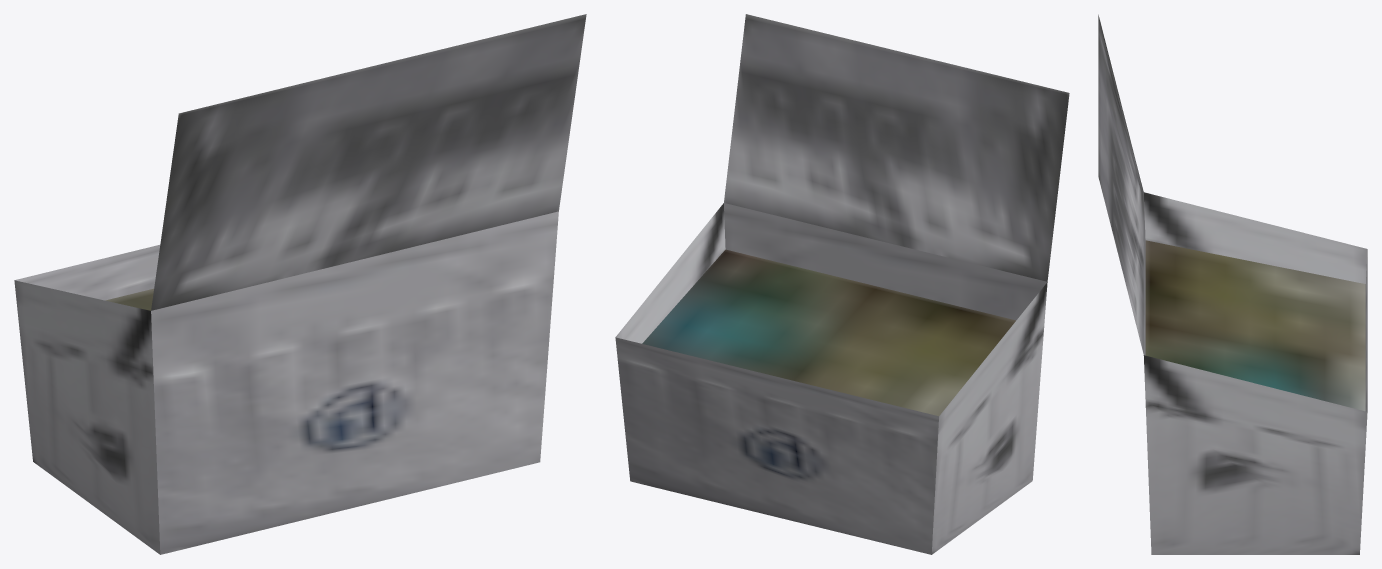
Rendered from copkutusuacik.fbx.
3 renders of one model, left to right at view 1: azimuth 30°, elevation 25°; view 2: azimuth 150°, elevation 25°; view 3: azimuth 270°, elevation 25°, orthographic. The views are drawn at different scales.
Visible parts, largest first — view 1: copkutusuacik; view 2: copkutusuacik; view 3: copkutusuacik.
Part boxes in pixels (x1,y1,x2,y2): copkutusuacik: [14, 14, 586, 554]; copkutusuacik: [615, 14, 1069, 554]; copkutusuacik: [1098, 14, 1367, 554].
Size of the model in its own units: 2.15 by 1.5 by 2.36.
1 material, 1 textured.
